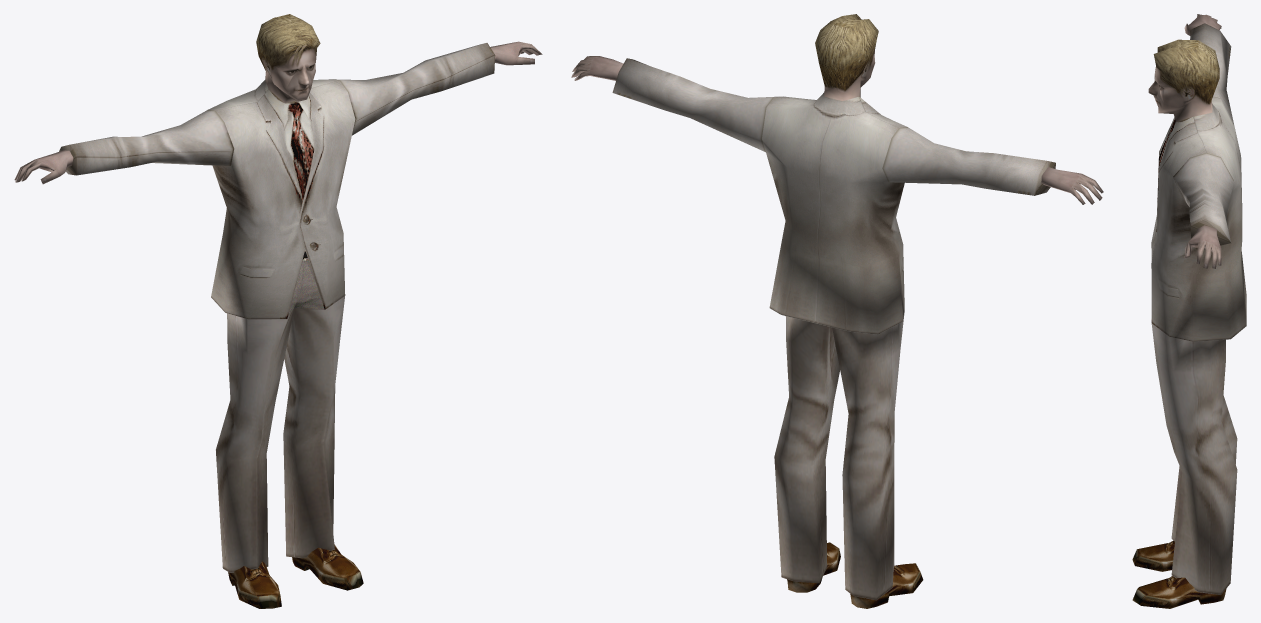
Rendered from JACK.dae.
The picture shows the model from 3 angles, left to right: view 1: azimuth 30°, elevation 25°; view 2: azimuth 150°, elevation 25°; view 3: azimuth 270°, elevation 25°; orthographic projection. The views are drawn at different scales.
Visible parts, largest first — view 1: Body; view 2: Body; view 3: Body.
Boxes of the visible parts, bbox=[...] form: Body: bbox=[14, 14, 542, 608]; Body: bbox=[571, 14, 1103, 608]; Body: bbox=[1132, 14, 1246, 608].
Bounding box in the file's own units: 19.01 × 19.37 × 3.72.
11 materials, 11 textured.
